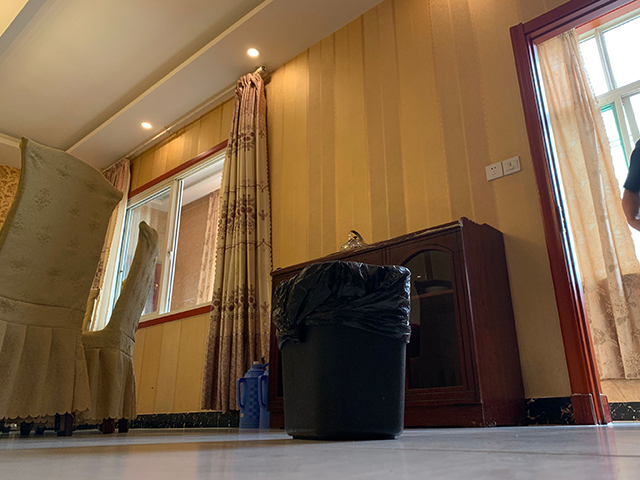cabinet: (269, 216, 528, 428)
curtain: (537, 25, 640, 380), (200, 65, 272, 415)
stool: (1, 135, 124, 439), (35, 219, 160, 439)
trashcan: (271, 258, 412, 442)
